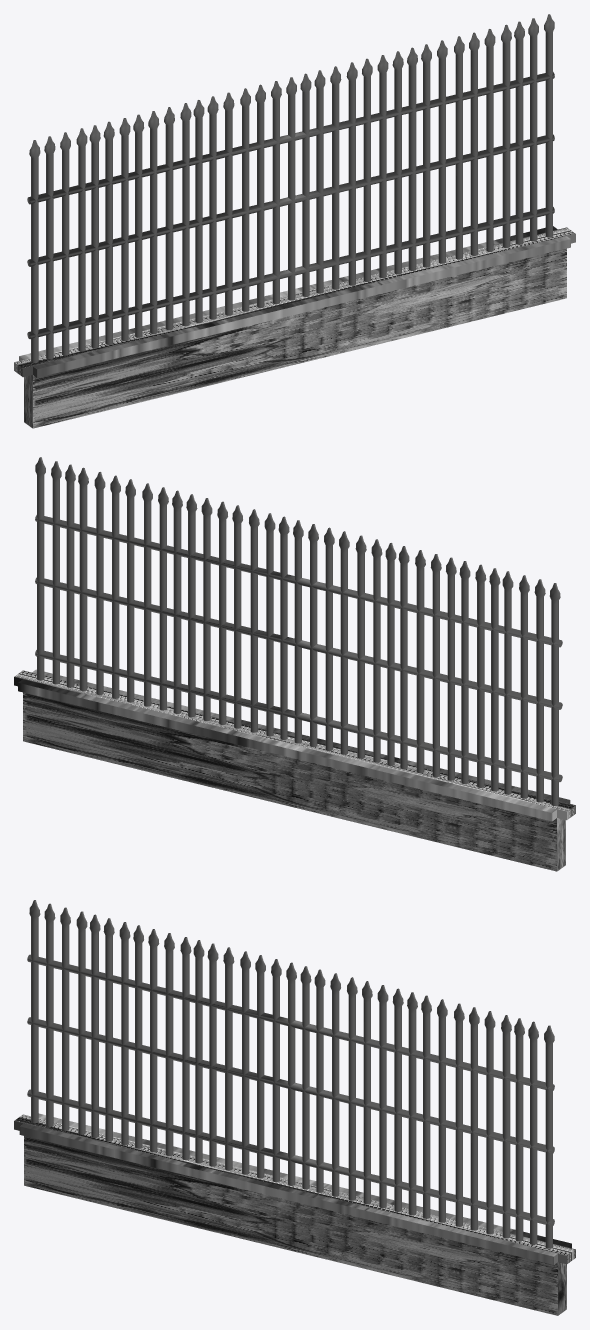
Rendered from grade.fbx.
3 renders of one model, top to bottom at view 1: azimuth 30°, elevation 25°; view 2: azimuth 150°, elevation 25°; view 3: azimuth 330°, elevation 25°, orthographic.
Parts seen in each view (by area): view 1: Cylinder.018, Cube; view 2: Cylinder.018, Cube; view 3: Cylinder.018, Cube.
Boxes of the visible parts, x1,y1,x2,y2 form: Cylinder.018: (27, 14, 554, 362); Cube: (14, 226, 575, 428); Cylinder.018: (35, 457, 562, 805); Cube: (14, 669, 575, 871); Cylinder.018: (27, 900, 554, 1248); Cube: (14, 1113, 575, 1315).
Bounding box in the file's own units: 483 × 236 × 27.21.
Materials: 2 (1 with a texture image).
